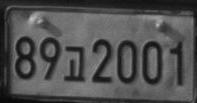0: (141, 39, 163, 86), (116, 39, 138, 84)
1: (167, 40, 189, 86)
2: (90, 38, 113, 83)
8: (14, 35, 36, 79)
9: (38, 36, 61, 80)
고: (62, 45, 85, 82)
